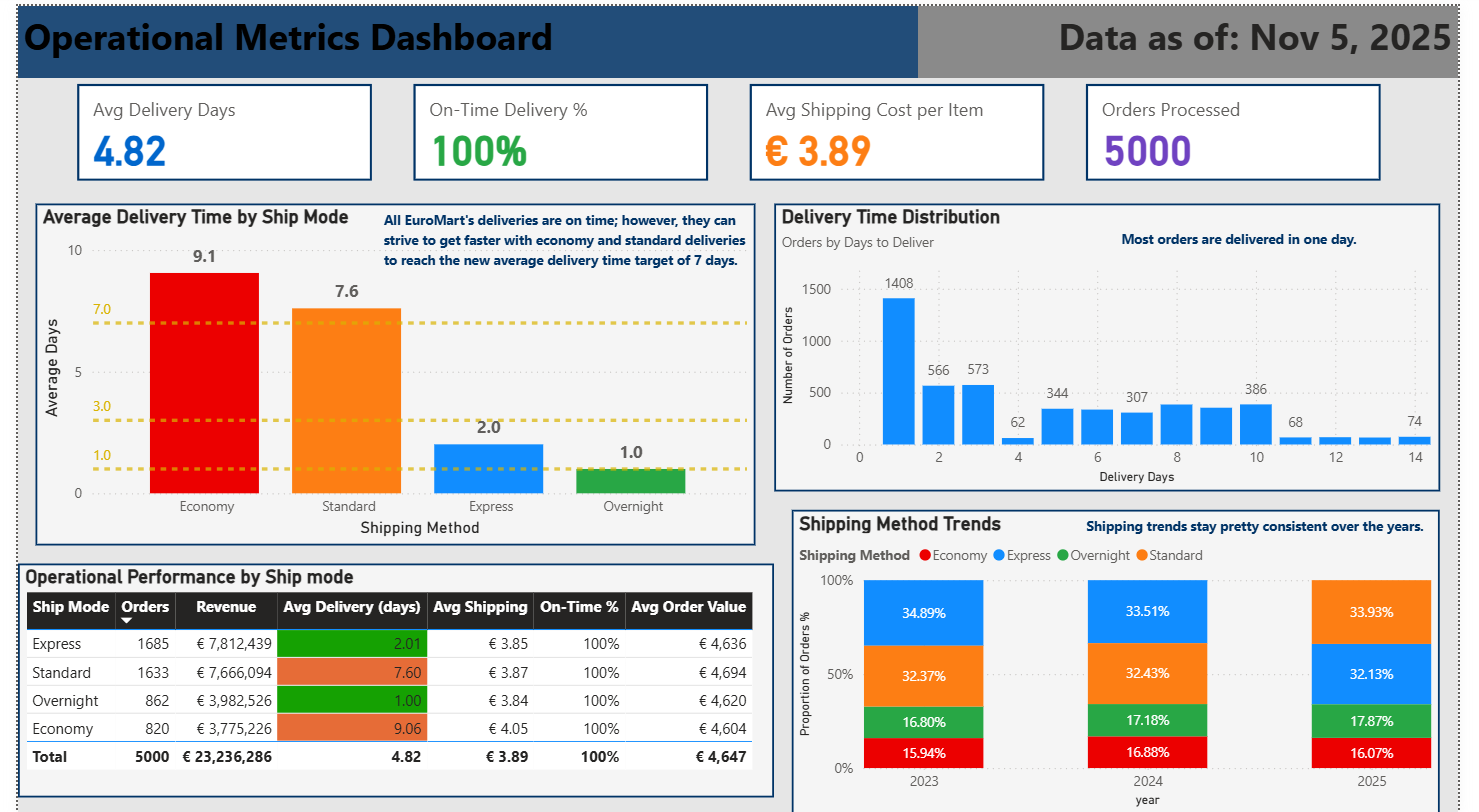

What the dashboard file says about the page in this screenshot:
{"tool":"powerbi","page":{"name":"Operational Metrics","canvas":[1280,720],"ordinal":4},"visuals":[{"type":"cardVisual","fields":{"Data":["fact_sales.Avg Delivery Days by Ship Mode"]},"box":[48,64,272,96],"z":0},{"type":"cardVisual","fields":{"Data":["fact_sales.On-Time Delivery Rate"]},"box":[346.7,64,272,96],"z":1000},{"type":"cardVisual","fields":{"Data":["fact_sales.Avg Shipping Cost"]},"box":[645.3,64,272,96],"z":2000},{"type":"cardVisual","fields":{"Data":["fact_sales.Total Orders"]},"box":[944,64,272,96],"z":3000},{"type":"textbox","box":[0,0,800,64],"z":4000},{"type":"textbox","box":[800,0,480,64],"z":5000},{"type":"clusteredColumnChart","title":"Average Delivery Time by Ship Mode","fields":{"Category":["fact_sales.ship_mode"],"Y":["fact_sales.Avg Delivery Days by Ship Mode"]},"box":[16,176,640,304],"z":6000},{"type":"textbox","box":[320,176,352,64],"z":7000},{"type":"clusteredColumnChart","title":"Delivery Time Distribution","fields":{"Category":["fact_sales.delivery_time_days"],"Y":["fact_sales.Total Orders"]},"box":[672,176,592,256],"z":8000},{"type":"textbox","box":[976,192,240,64],"z":9000},{"type":"hundredPercentStackedColumnChart","title":"Shipping Method Trends","fields":{"Y":["fact_sales.Total Orders"],"Series":["fact_sales.ship_mode"],"Category":["dim_date.year","Sort month name short.month_name_short"]},"box":[688,448,576,272],"z":10000},{"type":"textbox","box":[944,448,320,48],"z":11000},{"type":"tableEx","title":"Operational Performance by Ship mode","fields":{"Values":["fact_sales.ship_mode","fact_sales.Total Orders","fact_sales.Total Revenue","fact_sales.Avg Delivery Days by Ship Mode","fact_sales.Avg Shipping Cost","fact_sales.On-Time Delivery Rate","fact_sales.Avg Order Value"]},"box":[0,496,672,208],"z":12000}]}

Visuals, with their boxes in screenshot pixels (x1, y1, x2, y2), scaled from the page's 1280x720 canvas onto the 1479x812 screenshot:
cardVisual - fact_sales.Avg Delivery Days by Ship Mode: 55,72,370,180
cardVisual - fact_sales.On-Time Delivery Rate: 401,72,715,180
cardVisual - fact_sales.Avg Shipping Cost: 746,72,1060,180
cardVisual - fact_sales.Total Orders: 1091,72,1405,180
textbox: 0,0,924,72
textbox: 924,0,1478,72
"Average Delivery Time by Ship Mode" clusteredColumnChart: 18,198,758,541
textbox: 370,198,776,271
"Delivery Time Distribution" clusteredColumnChart: 776,198,1461,487
textbox: 1128,217,1405,289
"Shipping Method Trends" hundredPercentStackedColumnChart: 795,505,1461,811
textbox: 1091,505,1461,559
"Operational Performance by Ship mode" tableEx: 0,559,776,794
